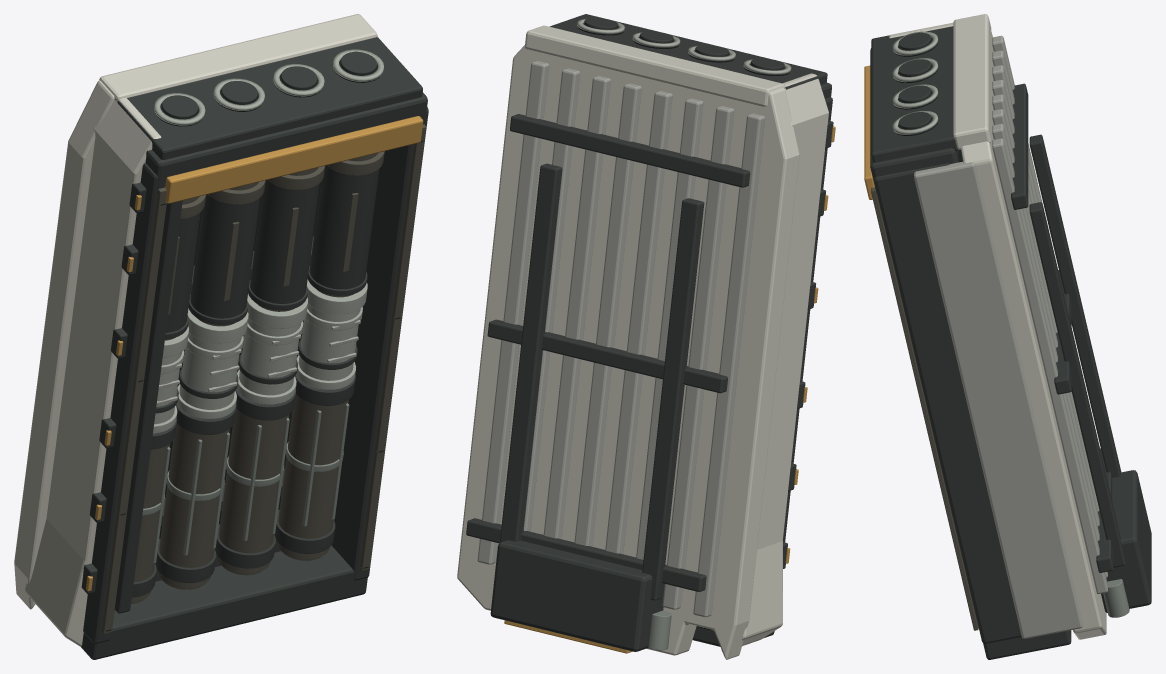
The model's file is vertical-pods-a-pod-module-v1.glb.
3 views of the same model, side by side, from view 1: azimuth 30°, elevation 25°; view 2: azimuth 150°, elevation 25°; view 3: azimuth 270°, elevation 25° (orthographic). The views are drawn at different scales.
Parts seen in each view (by area): view 1: A | cassette | charcoal frame, A | cassette | warm ceramic armor, A | cassette | brown gunmetal sleeves, A | cassette | aged silver bands, A | cassette | ochre trim, A | cassette | fasteners, A | cassette | dark recess, A | cassette | worn armor edges; view 2: A | cassette | warm ceramic armor, A | cassette | worn armor edges, A | cassette | charcoal frame, A | cassette | aged silver bands, A | cassette | ochre trim, A | cassette | fasteners; view 3: A | cassette | charcoal frame, A | cassette | worn armor edges, A | cassette | warm ceramic armor, A | cassette | brown gunmetal sleeves, A | cassette | aged silver bands, A | cassette | ochre trim, A | cassette | fasteners, A | cassette | dark recess.
Boxes of the visible parts, bbox=[...] form: A | cassette | charcoal frame: bbox=[81, 37, 428, 659]; A | cassette | warm ceramic armor: bbox=[14, 14, 377, 646]; A | cassette | brown gunmetal sleeves: bbox=[101, 124, 426, 633]; A | cassette | aged silver bands: bbox=[153, 49, 383, 433]; A | cassette | ochre trim: bbox=[86, 116, 423, 591]; A | cassette | fasteners: bbox=[107, 317, 393, 633]; A | cassette | dark recess: bbox=[106, 60, 423, 631]; A | cassette | worn armor edges: bbox=[156, 320, 360, 405]; A | cassette | warm ceramic armor: bbox=[457, 25, 828, 659]; A | cassette | worn armor edges: bbox=[477, 60, 765, 617]; A | cassette | charcoal frame: bbox=[466, 14, 833, 651]; A | cassette | aged silver bands: bbox=[577, 18, 791, 74]; A | cassette | ochre trim: bbox=[504, 126, 835, 653]; A | cassette | fasteners: bbox=[648, 610, 671, 650]; A | cassette | charcoal frame: bbox=[870, 26, 1151, 659]; A | cassette | worn armor edges: bbox=[914, 35, 1107, 638]; A | cassette | warm ceramic armor: bbox=[889, 14, 1106, 639]; A | cassette | brown gunmetal sleeves: bbox=[871, 187, 978, 630]; A | cassette | aged silver bands: bbox=[892, 31, 938, 134]; A | cassette | ochre trim: bbox=[864, 65, 874, 199]; A | cassette | fasteners: bbox=[1103, 579, 1129, 617]; A | cassette | dark recess: bbox=[894, 38, 962, 162].
Bounding box in the file's own units: 0.9125 × 1.68 × 0.8284.
